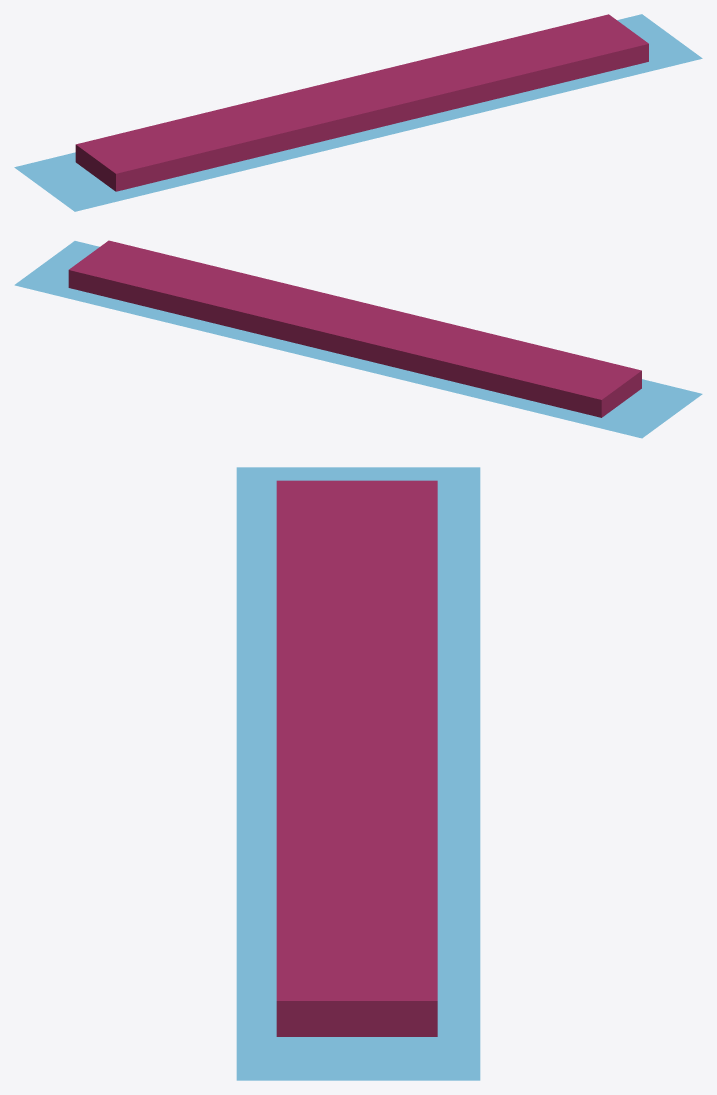
File: bar1.gltf
3 views of the same model, one above another, from view 1: azimuth 30°, elevation 25°; view 2: azimuth 150°, elevation 25°; view 3: azimuth 270°, elevation 25° (orthographic). The views are drawn at different scales.
Parts seen in each view (by area): view 1: Cube, Plane; view 2: Cube, Plane; view 3: Cube, Plane.
Boxes of the visible parts, left/top/right/bottom form: Cube: left=75, top=14, right=648, bottom=191; Plane: left=14, top=14, right=702, bottom=211; Cube: left=68, top=240, right=641, bottom=417; Plane: left=14, top=241, right=702, bottom=438; Cube: left=276, top=480, right=437, bottom=1036; Plane: left=236, top=467, right=480, bottom=1080.
Size of the model in its own units: 11.91 by 0.3312 by 2.
Materials: 2 (2 with a texture image).
